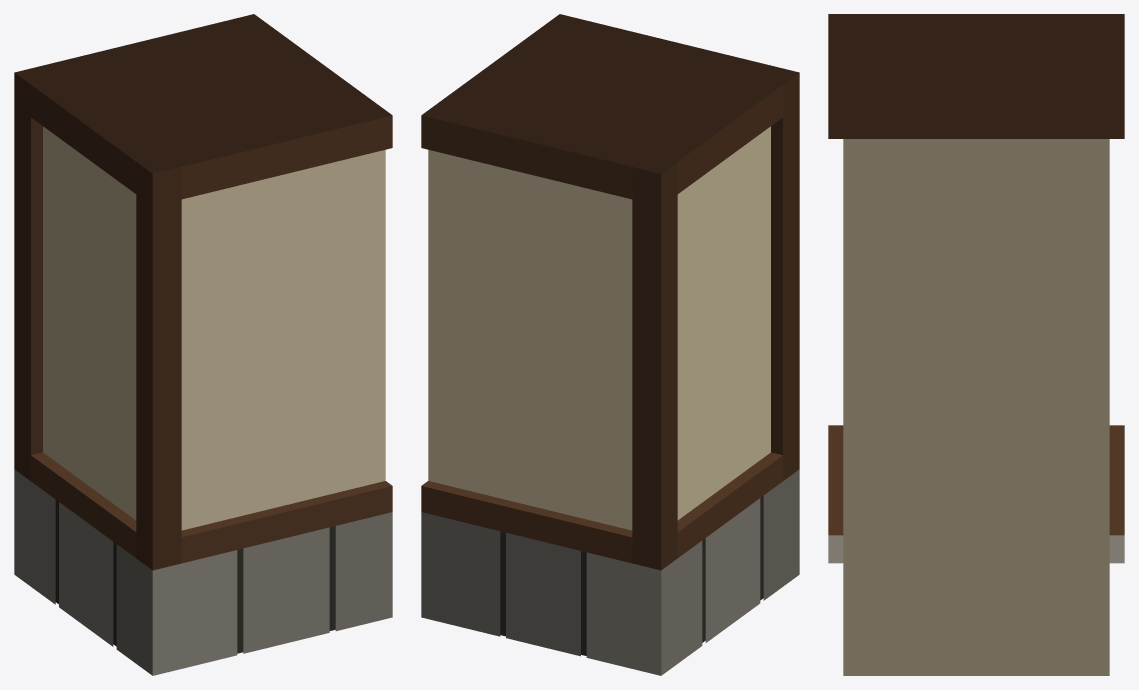
File: tile_house_wall_8.glb
3 renders of one model, left to right at view 1: azimuth 30°, elevation 25°; view 2: azimuth 150°, elevation 25°; view 3: azimuth 270°, elevation 25°, orthographic. The views are drawn at different scales.
Visible parts, largest first — view 1: tile_house_wall_8; view 2: tile_house_wall_8; view 3: tile_house_wall_8.
Part boxes in pixels (bbox=[...]): tile_house_wall_8: bbox=[14, 14, 392, 675]; tile_house_wall_8: bbox=[421, 14, 799, 675]; tile_house_wall_8: bbox=[828, 14, 1124, 675].
Bounding box in the file's own units: 1 × 2 × 1.
